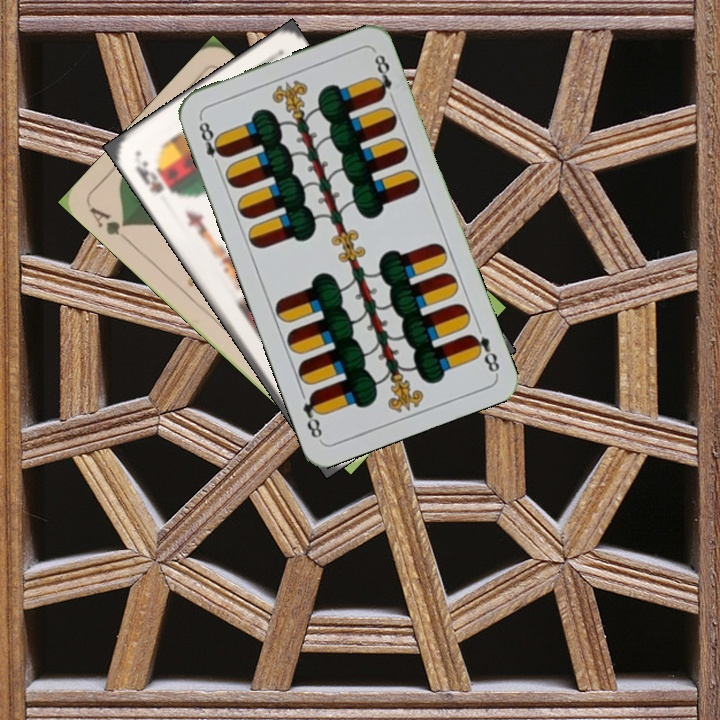E8: (194, 113, 228, 171), (465, 330, 502, 376)
GA: (85, 202, 134, 247)
SK: (131, 157, 167, 196)
